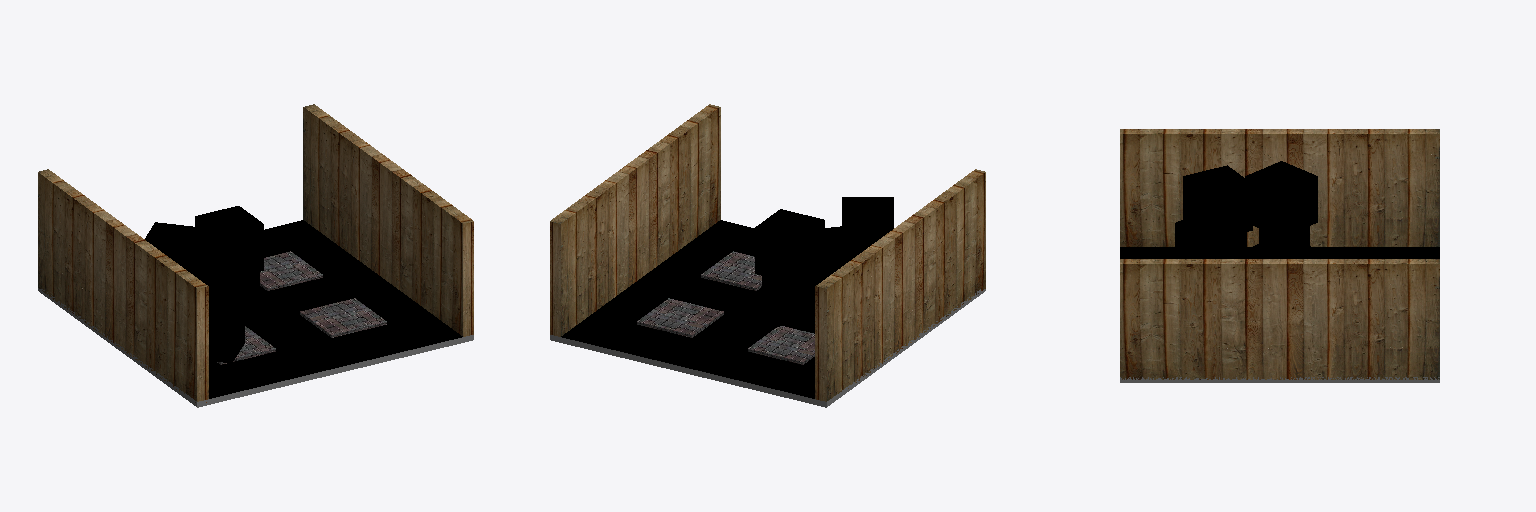
The picture shows the model from 3 angles: view 1: azimuth 30°, elevation 25°; view 2: azimuth 150°, elevation 25°; view 3: azimuth 270°, elevation 25°; orthographic projection.
Visible parts, largest first — view 1: Greade_Holz_Boxen; view 2: Greade_Holz_Boxen; view 3: Greade_Holz_Boxen.
Part boxes in pixels (left/top/right/bottom): Greade_Holz_Boxen: left=38, top=104, right=473, bottom=407; Greade_Holz_Boxen: left=550, top=104, right=985, bottom=407; Greade_Holz_Boxen: left=1120, top=129, right=1439, bottom=382.
Bounding box in the file's own units: 5 × 2.05 × 5.
14 materials, 2 textured.